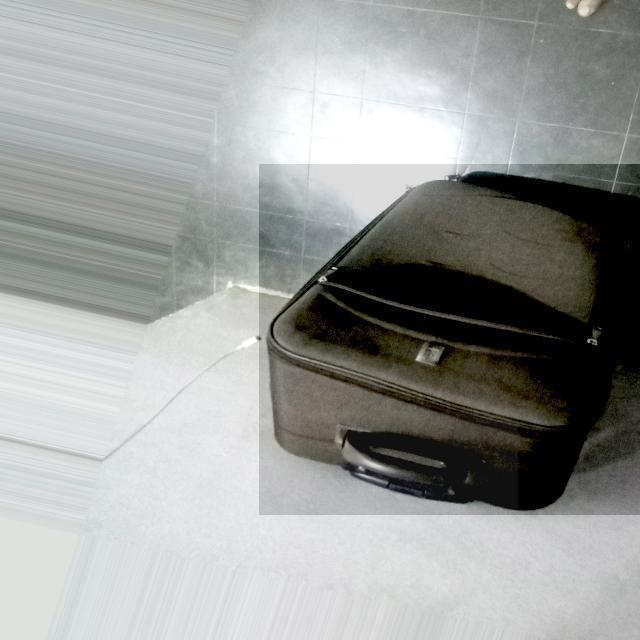Suitcase: (257, 164, 640, 510)
